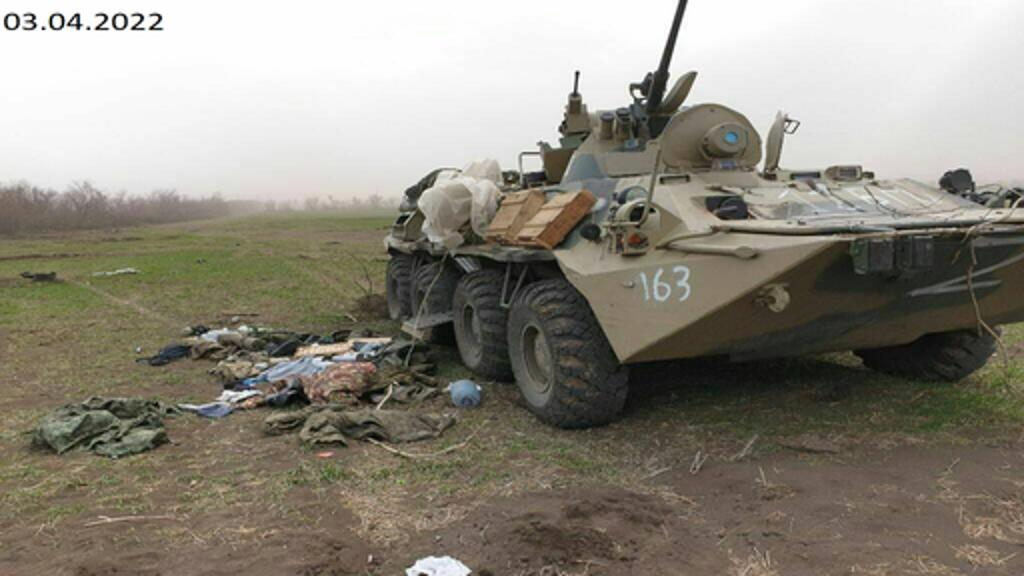APC-IFV: (386, 2, 1022, 430)
